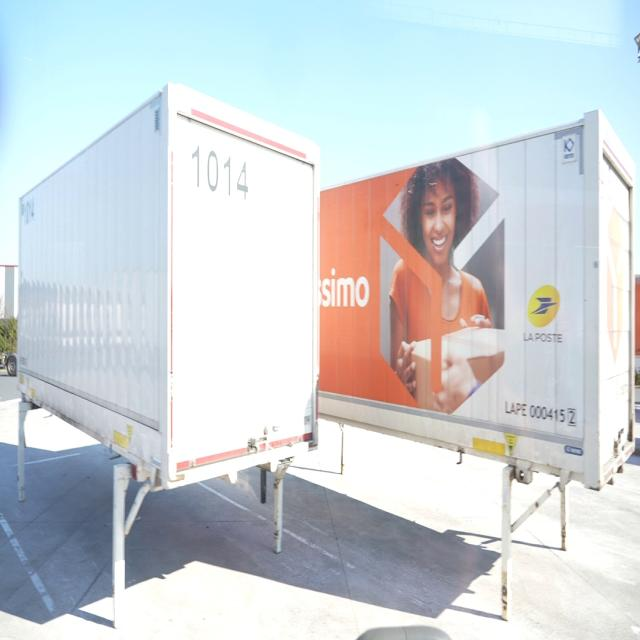Code: (189, 134, 253, 216)
